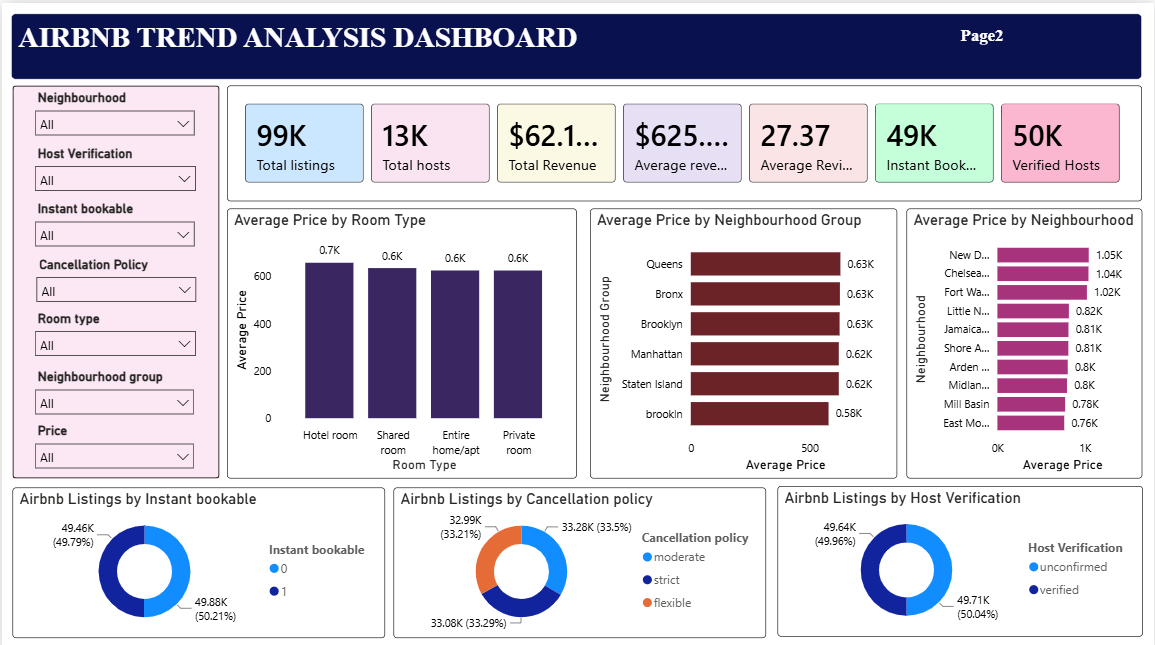

This screenshot's page, from the dashboard's own definition file:
{"tool":"powerbi","page":{"name":"Page 1","canvas":[1280,720],"ordinal":0},"visuals":[{"type":"shape","box":[11.7,91.7,230,436.7],"z":0},{"type":"cardVisual","fields":{"Data":["airbnb_trends_analysis airbnb.Total listings","airbnb_trends_analysis airbnb.Total hosts","airbnb_trends_analysis airbnb.Total Revenue","airbnb_trends_analysis airbnb.Average revenue","airbnb_trends_analysis airbnb.Average Reviews","airbnb_trends_analysis airbnb.Instant Bookables","airbnb_trends_analysis airbnb.Verified Hosts"]},"box":[250,91.7,1016.7,128.3],"z":1000},{"type":"textbox","box":[10,11.7,1256.7,73.3],"z":2000},{"type":"slicer","fields":{"Values":["airbnb_trends_analysis airbnb.instant_bookable"]},"box":[27.2,214.6,197.1,62.9],"z":2000,"group":"g1"},{"type":"clusteredColumnChart","fields":{"Category":["airbnb_trends_analysis airbnb.room_type"],"Y":["airbnb_trends_analysis airbnb.Average revenue"]},"box":[250,228.3,388.3,300],"z":3000},{"type":"slicer","fields":{"Values":["airbnb_trends_analysis airbnb.neighbourhood_group"]},"box":[26.7,402.4,196.7,60],"z":3000,"group":"g1"},{"type":"clusteredBarChart","fields":{"Category":["airbnb_trends_analysis airbnb.neighbourhood_group"],"Y":["airbnb_trends_analysis airbnb.Average revenue"]},"box":[653.3,228.9,341.1,300],"z":4000},{"type":"clusteredBarChart","fields":{"Y":["airbnb_trends_analysis airbnb.Average revenue"],"Category":["airbnb_trends_analysis airbnb.neighbourhood"]},"box":[1005,228.3,261.7,300],"z":5000},{"type":"group","id":"g1","title":"Group 1","box":[26.7,91.7,198.3,428.3],"z":6000},{"type":"slicer","fields":{"Values":["airbnb_trends_analysis airbnb.cancellation_policy"]},"box":[28.6,277.4,197.1,60],"z":6000,"group":"g1"},{"type":"donutChart","fields":{"Category":["airbnb_trends_analysis airbnb.instant_bookable"],"Y":["CountNonNull(airbnb_trends_analysis airbnb.name)"]},"box":[11.4,538.6,414.3,167.1],"z":7000},{"type":"slicer","fields":{"Values":["airbnb_trends_analysis airbnb.room_type"]},"box":[26.7,337.4,198.3,65],"z":8000,"group":"g1"},{"type":"donutChart","fields":{"Category":["airbnb_trends_analysis airbnb.cancellation_policy"],"Y":["CountNonNull(airbnb_trends_analysis airbnb.name)"]},"box":[435.7,538.6,414.3,167.1],"z":8000},{"type":"slicer","fields":{"Values":["airbnb_trends_analysis airbnb.host_identity_verified"]},"box":[27.2,153.1,198.6,61.4],"z":9000,"group":"g1"},{"type":"donutChart","fields":{"Category":["airbnb_trends_analysis airbnb.host_identity_verified"],"Y":["CountNonNull(airbnb_trends_analysis airbnb.name)"]},"box":[861.4,537.1,405.7,167.1],"z":9000},{"type":"actionButton","title":"Page2","box":[1065,25,85,23.3],"z":10000},{"type":"slicer","fields":{"Values":["airbnb_trends_analysis airbnb.price"]},"box":[26.7,462.4,196.7,58.3],"z":10000,"group":"g1"},{"type":"slicer","fields":{"Values":["airbnb_trends_analysis airbnb.neighbourhood"]},"box":[27.2,91.7,197.1,61.4],"z":11000,"group":"g1"}]}

Visuals, with their boxes in screenshot pixels (x1, y1, x2, y2), scaled from the page's 1280x720 canvas onto the 1155x645 screenshot:
shape: 11,82,218,473
cardVisual - airbnb_trends_analysis airbnb.Total listings x airbnb_trends_analysis airbnb.Total hosts: 226,82,1143,197
textbox: 9,10,1143,76
slicer - airbnb_trends_analysis airbnb.instant_bookable: 25,192,202,249
clusteredColumnChart - airbnb_trends_analysis airbnb.room_type x airbnb_trends_analysis airbnb.Average revenue: 226,205,576,473
slicer - airbnb_trends_analysis airbnb.neighbourhood_group: 24,360,202,414
clusteredBarChart - airbnb_trends_analysis airbnb.neighbourhood_group x airbnb_trends_analysis airbnb.Average revenue: 590,205,897,474
clusteredBarChart - airbnb_trends_analysis airbnb.Average revenue x airbnb_trends_analysis airbnb.neighbourhood: 907,205,1143,473
"Group 1" group: 24,82,203,466
slicer - airbnb_trends_analysis airbnb.cancellation_policy: 26,249,204,302
donutChart - airbnb_trends_analysis airbnb.instant_bookable x CountNonNull(airbnb_trends_analysis airbnb.name): 10,482,384,632
slicer - airbnb_trends_analysis airbnb.room_type: 24,302,203,360
donutChart - airbnb_trends_analysis airbnb.cancellation_policy x CountNonNull(airbnb_trends_analysis airbnb.name): 393,482,767,632
slicer - airbnb_trends_analysis airbnb.host_identity_verified: 25,137,204,192
donutChart - airbnb_trends_analysis airbnb.host_identity_verified x CountNonNull(airbnb_trends_analysis airbnb.name): 777,481,1143,631
"Page2" actionButton: 961,22,1038,43
slicer - airbnb_trends_analysis airbnb.price: 24,414,202,466
slicer - airbnb_trends_analysis airbnb.neighbourhood: 25,82,202,137
